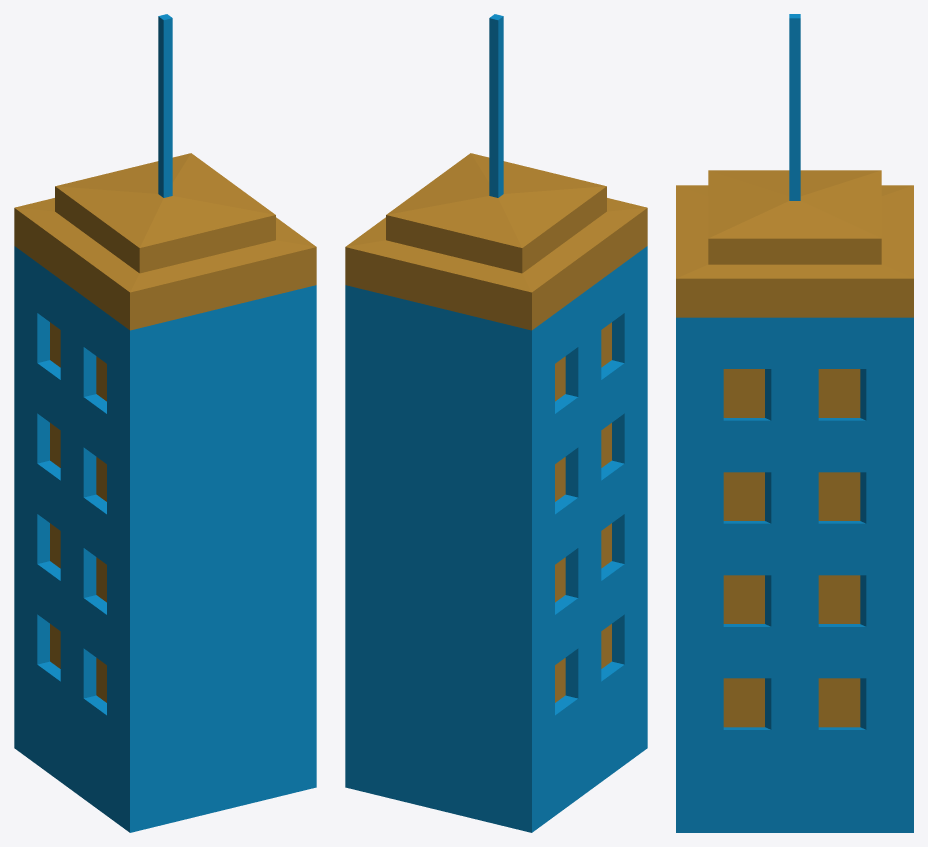
Rendered from Building5.fbx.
The picture shows the model from 3 angles, left to right: view 1: azimuth 30°, elevation 25°; view 2: azimuth 150°, elevation 25°; view 3: azimuth 270°, elevation 25°; orthographic projection. The views are drawn at different scales.
Visible parts, largest first — view 1: Cube; view 2: Cube; view 3: Cube.
Part boxes in pixels (bbox=[...]): Cube: bbox=[14, 14, 316, 832]; Cube: bbox=[345, 14, 647, 832]; Cube: bbox=[676, 14, 913, 832].
Bounding box in the file's own units: 200 × 769 × 215.
